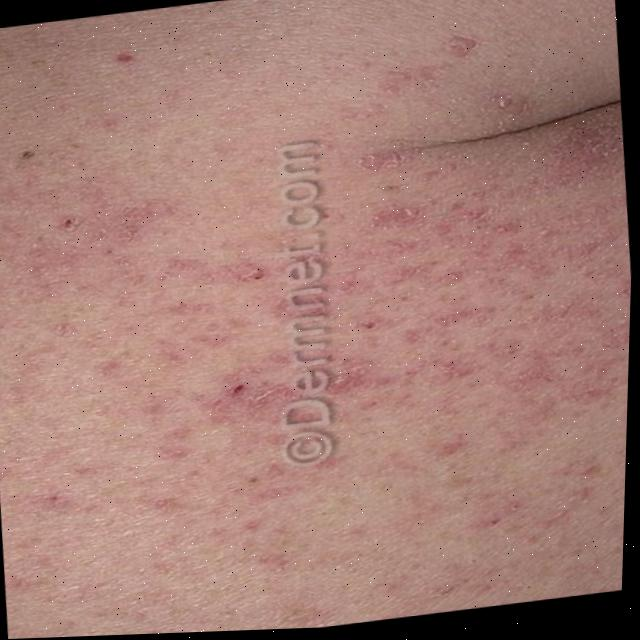Eczema: (0, 102, 636, 620)
